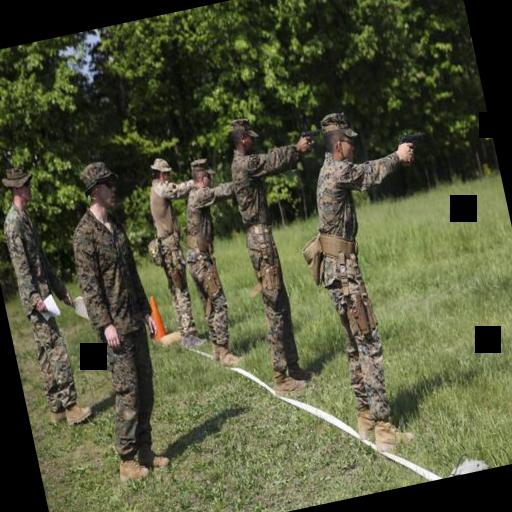Handgun: (393, 124, 429, 162), (296, 122, 323, 154)
